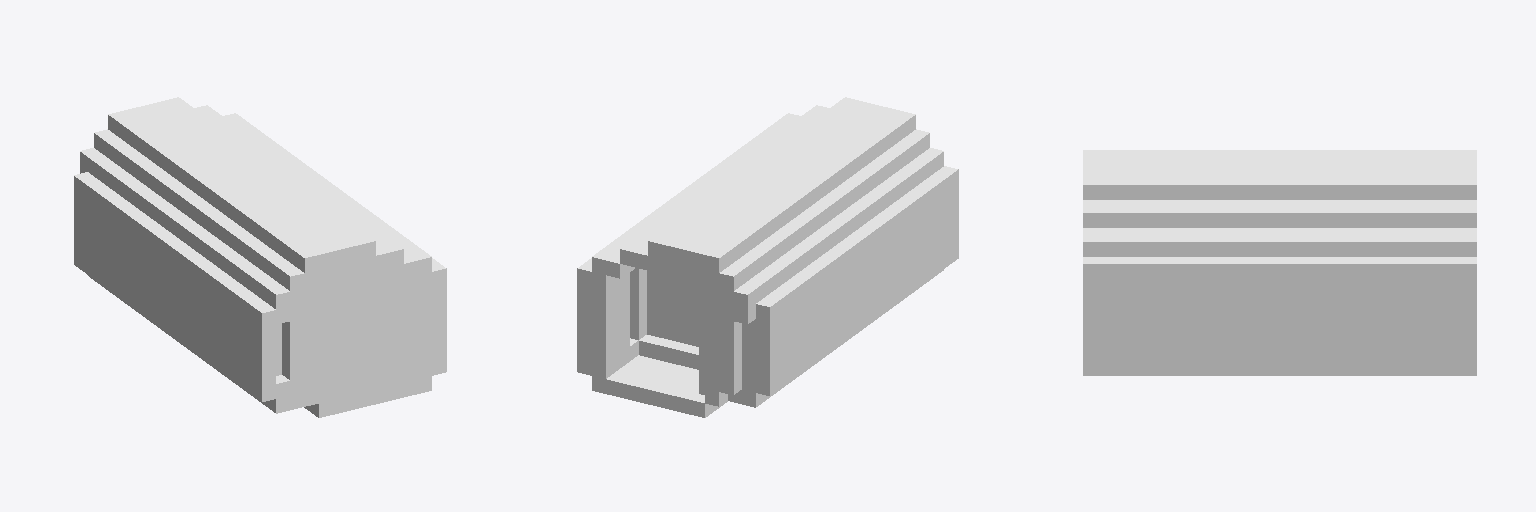
The model's file is PreCheck_Snake1-1.obj.
The picture shows the model from 3 angles: view 1: azimuth 30°, elevation 25°; view 2: azimuth 150°, elevation 25°; view 3: azimuth 270°, elevation 25°; orthographic projection.
Visible parts, largest first — view 1: object 1; view 2: object 1; view 3: object 1.
Boxes of the visible parts, box(x1,y1,x2,y2) form: object 1: box(74, 97, 446, 417); object 1: box(577, 97, 958, 417); object 1: box(1083, 150, 1476, 375).
Bounding box in the file's own units: 1.3 × 1.1 × 2.4.